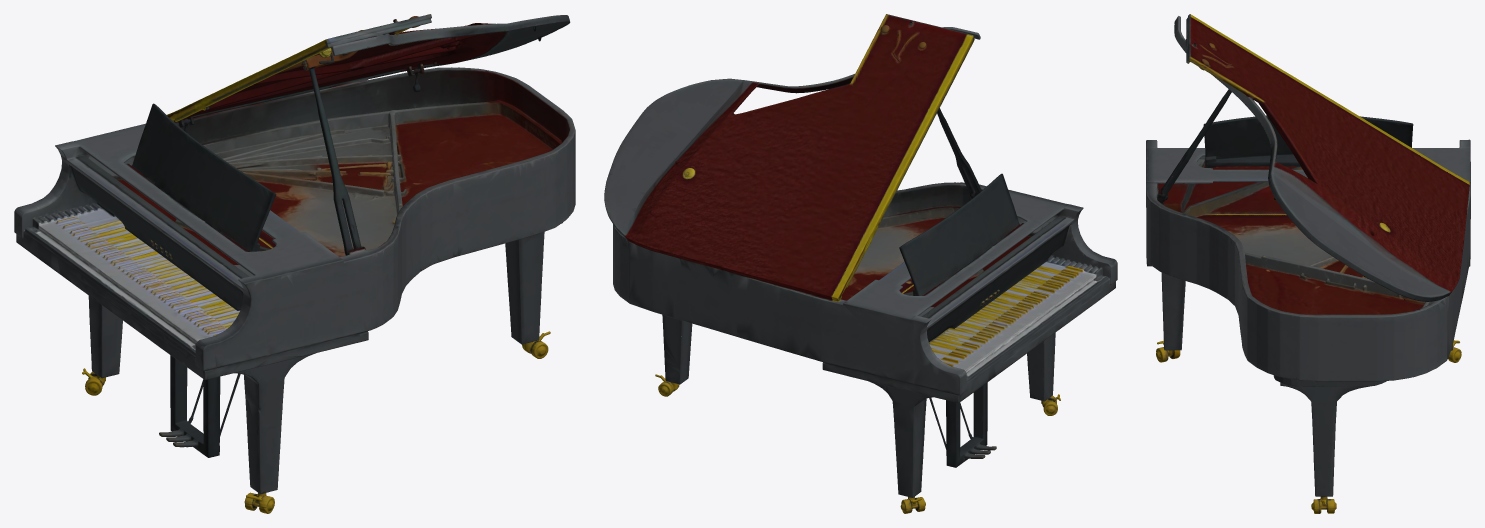
File: piano.glb
The picture shows the model from 3 angles, left to right: view 1: azimuth 30°, elevation 25°; view 2: azimuth 150°, elevation 25°; view 3: azimuth 270°, elevation 25°; orthographic projection. The views are drawn at different scales.
Parts seen in each view (by area): view 1: tripo_node_0d475d89-b731-4a91-a795-b08496c21891; view 2: tripo_node_0d475d89-b731-4a91-a795-b08496c21891; view 3: tripo_node_0d475d89-b731-4a91-a795-b08496c21891.
Boxes of the visible parts, bbox=[...] form: tripo_node_0d475d89-b731-4a91-a795-b08496c21891: bbox=[14, 14, 575, 513]; tripo_node_0d475d89-b731-4a91-a795-b08496c21891: bbox=[604, 14, 1117, 513]; tripo_node_0d475d89-b731-4a91-a795-b08496c21891: bbox=[1146, 14, 1470, 513].
Bounding box in the file's own units: 0.9788 × 0.8771 × 0.6793.
1 material, 1 textured.
